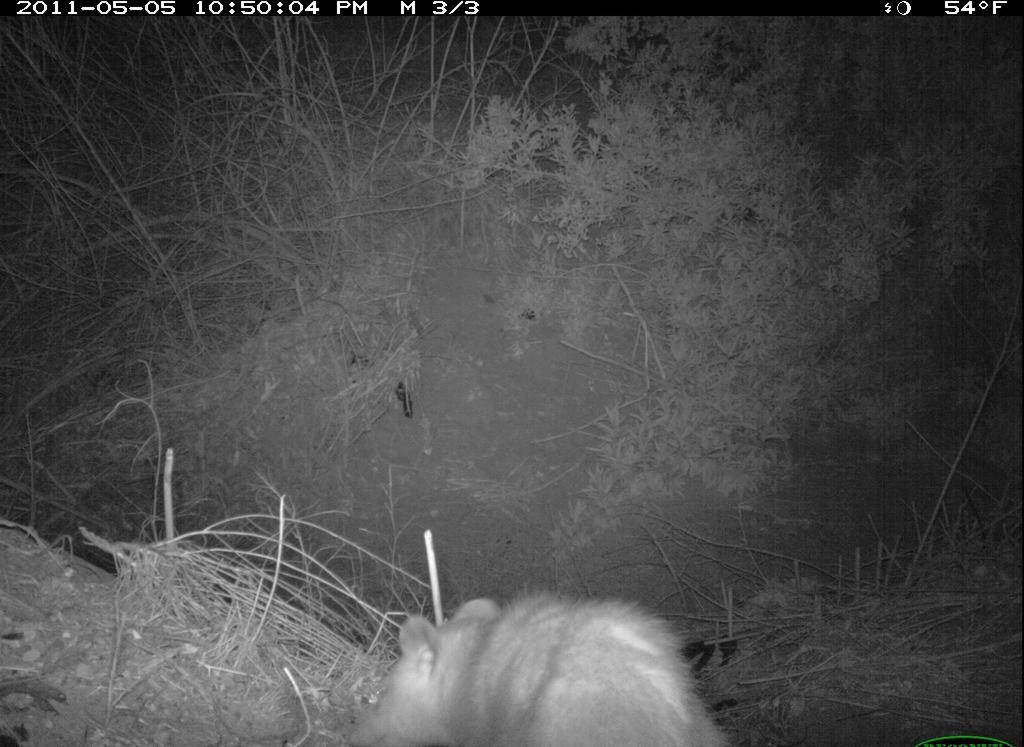opossum: (341, 583, 751, 747)
